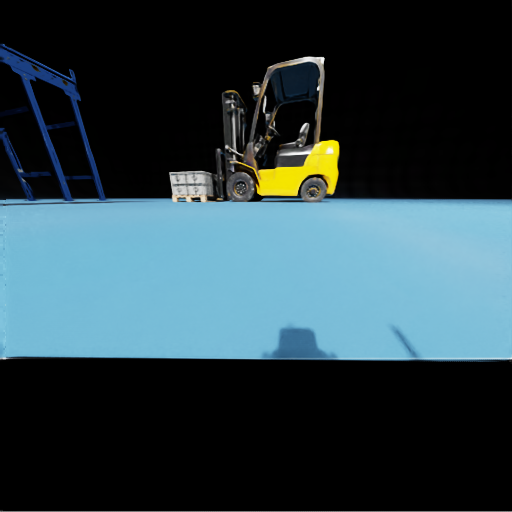transportation_area: (187, 184, 217, 194)
